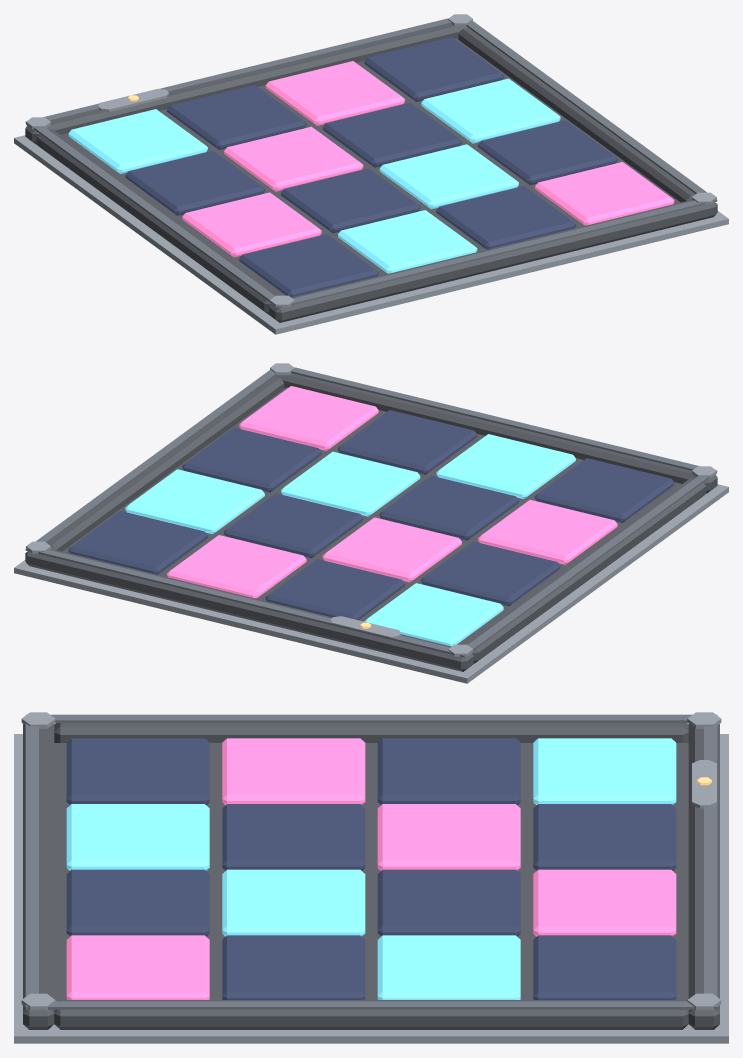
File: DanceFloor.fbx
The picture shows the model from 3 angles, top to bottom: view 1: azimuth 30°, elevation 25°; view 2: azimuth 150°, elevation 25°; view 3: azimuth 270°, elevation 25°; orthographic projection. The views are drawn at different scales.
Visible parts, largest first — view 1: DanceFloor.Frame, DanceFloor.Trim, DanceFloor.EdgeStrip, DanceFloor.Tile_r1_c0, DanceFloor.Tile_r1_c3, DanceFloor.Tile_r2_c1, DanceFloor.Tile_r3_c2, DanceFloor.Tile_r1_c2, DanceFloor.Tile_r3_c3, DanceFloor.Tile_r2_c0, DanceFloor.Tile_r2_c2, DanceFloor.Tile_r2_c3 (+7 smaller); view 2: DanceFloor.Frame, DanceFloor.Trim, DanceFloor.EdgeStrip, DanceFloor.Tile_r2_c0, DanceFloor.Tile_r0_c2, DanceFloor.Tile_r1_c1, DanceFloor.Tile_r2_c3, DanceFloor.Tile_r0_c3, DanceFloor.Tile_r2_c2, DanceFloor.Tile_r0_c0, DanceFloor.Tile_r0_c1, DanceFloor.Tile_r1_c0 (+7 smaller); view 3: DanceFloor.Frame, DanceFloor.EdgeStrip, DanceFloor.Trim, DanceFloor.Tile_r0_c1, DanceFloor.Tile_r3_c1, DanceFloor.Tile_r1_c1, DanceFloor.Tile_r2_c1, DanceFloor.Tile_r0_c2, DanceFloor.Tile_r1_c2, DanceFloor.Tile_r1_c3, DanceFloor.Tile_r2_c2, DanceFloor.Tile_r2_c3 (+7 smaller).
Part boxes in pixels (left/top/right/bottom): DanceFloor.Frame: left=25, top=24, right=717, bottom=322; DanceFloor.Trim: left=14, top=14, right=728, bottom=334; DanceFloor.EdgeStrip: left=25, top=18, right=717, bottom=308; DanceFloor.Tile_r1_c0: left=478, top=120, right=617, bottom=185; DanceFloor.Tile_r1_c3: left=182, top=192, right=321, bottom=257; DanceFloor.Tile_r2_c1: left=322, top=102, right=461, bottom=167; DanceFloor.Tile_r3_c2: left=167, top=85, right=306, bottom=149; DanceFloor.Tile_r1_c2: left=281, top=168, right=420, bottom=233; DanceFloor.Tile_r3_c3: left=68, top=109, right=207, bottom=173; DanceFloor.Tile_r2_c0: left=421, top=78, right=560, bottom=143; DanceFloor.Tile_r2_c2: left=224, top=126, right=363, bottom=191; DanceFloor.Tile_r2_c3: left=125, top=150, right=264, bottom=215; DanceFloor.Frame: left=25, top=373, right=717, bottom=671; DanceFloor.Trim: left=14, top=363, right=728, bottom=683; DanceFloor.EdgeStrip: left=25, top=367, right=717, bottom=657; DanceFloor.Tile_r2_c0: left=125, top=469, right=264, bottom=534; DanceFloor.Tile_r0_c2: left=436, top=434, right=575, bottom=498; DanceFloor.Tile_r1_c1: left=281, top=451, right=420, bottom=516; DanceFloor.Tile_r2_c3: left=421, top=541, right=560, bottom=606; DanceFloor.Tile_r0_c3: left=535, top=458, right=674, bottom=522; DanceFloor.Tile_r2_c2: left=322, top=517, right=461, bottom=582; DanceFloor.Tile_r0_c0: left=239, top=386, right=378, bottom=450; DanceFloor.Tile_r0_c1: left=338, top=410, right=477, bottom=474; DanceFloor.Tile_r1_c0: left=182, top=427, right=321, bottom=492; DanceFloor.Frame: left=23, top=723, right=719, bottom=1029; DanceFloor.EdgeStrip: left=25, top=714, right=717, bottom=1009; DanceFloor.Trim: left=14, top=712, right=728, bottom=1043; DanceFloor.Tile_r0_c1: left=66, top=869, right=209, bottom=936; DanceFloor.Tile_r3_c1: left=533, top=869, right=676, bottom=936; DanceFloor.Tile_r1_c1: left=222, top=869, right=365, bottom=936; DanceFloor.Tile_r2_c1: left=377, top=869, right=520, bottom=936; DanceFloor.Tile_r0_c2: left=66, top=804, right=209, bottom=870; DanceFloor.Tile_r1_c2: left=222, top=804, right=365, bottom=870; DanceFloor.Tile_r1_c3: left=222, top=738, right=365, bottom=805; DanceFloor.Tile_r2_c2: left=377, top=804, right=520, bottom=870; DanceFloor.Tile_r2_c3: left=377, top=738, right=520, bottom=805.
Size of the model in its own units: 8 by 0.43 by 8.
